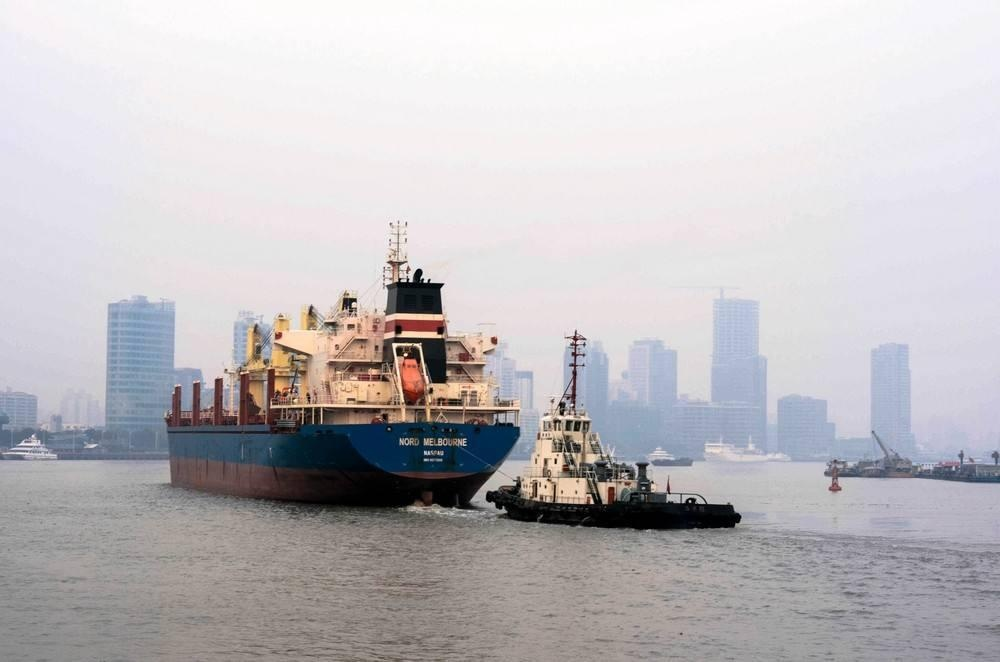Cargoship: (141, 217, 513, 523)
otherboat: (463, 337, 745, 536)
yacht: (2, 430, 53, 462)
